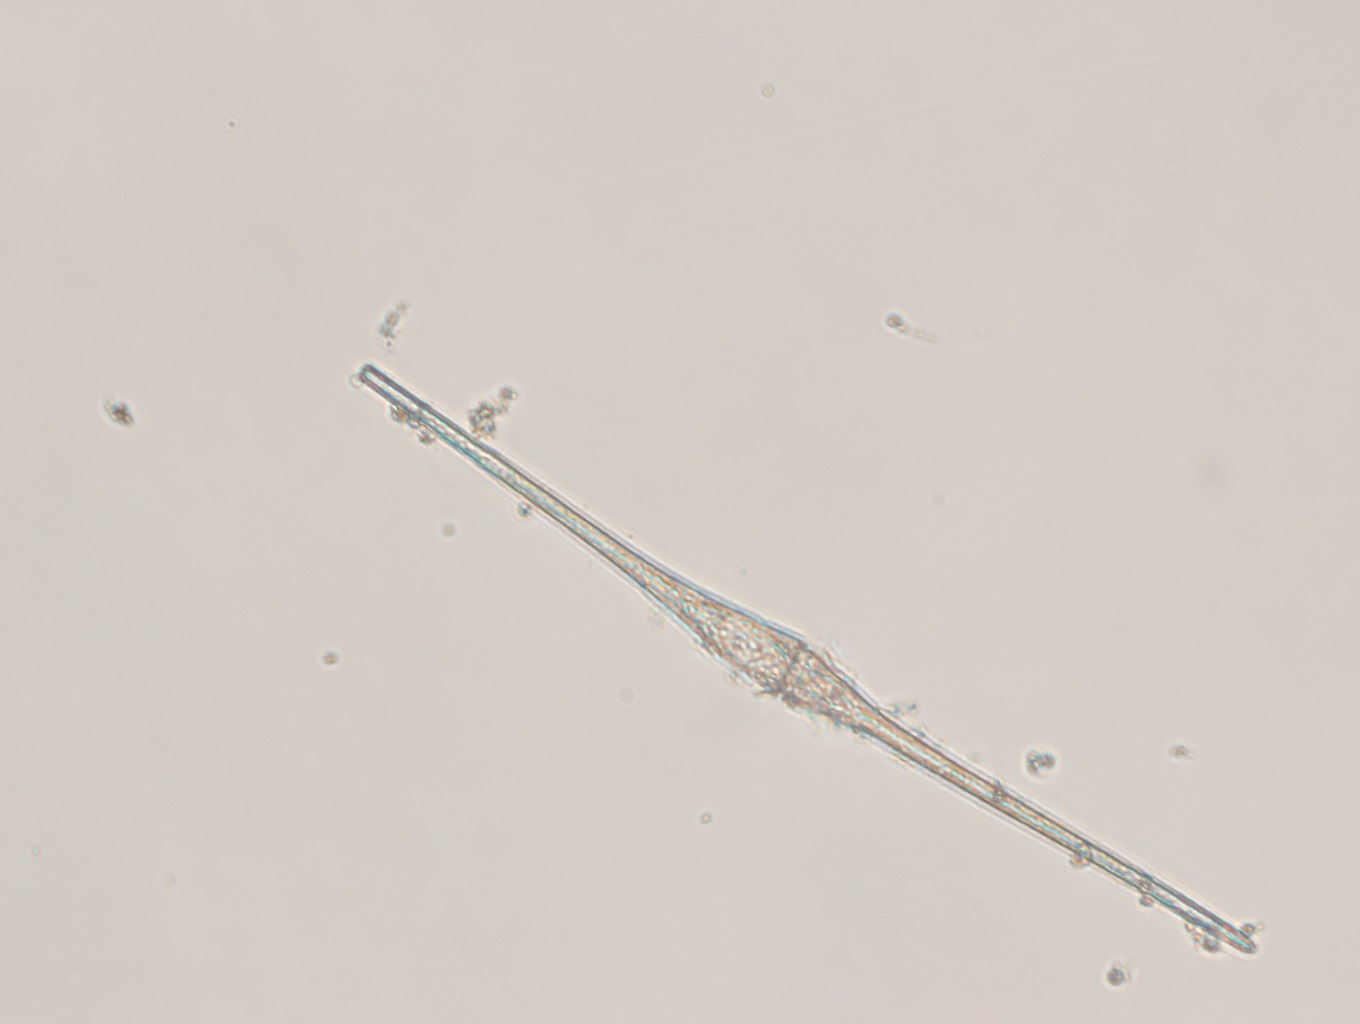ceratium fusus: (355, 364, 1258, 957)
